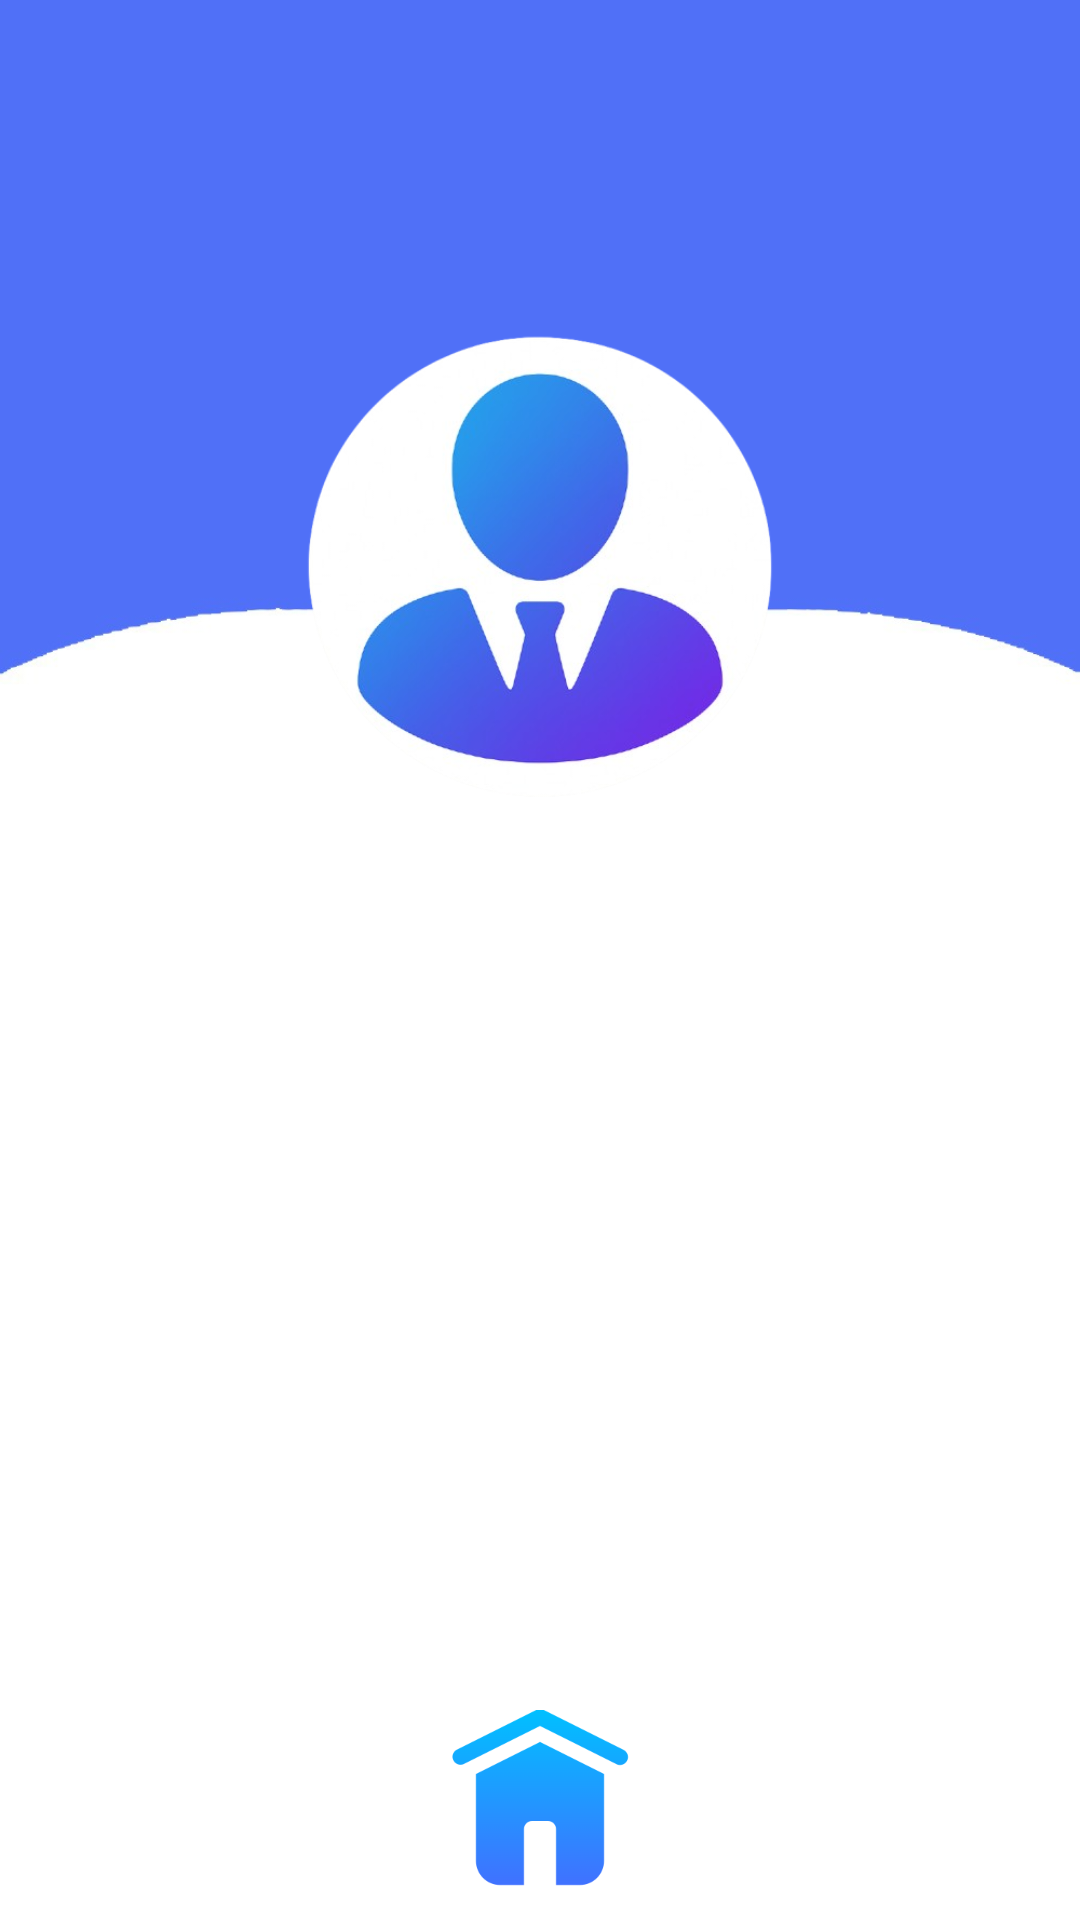

Where to tap for icons on this 1080px x 1920px app screen, as (x=x, y=y):
admin homepage: (x=540, y=1798)
